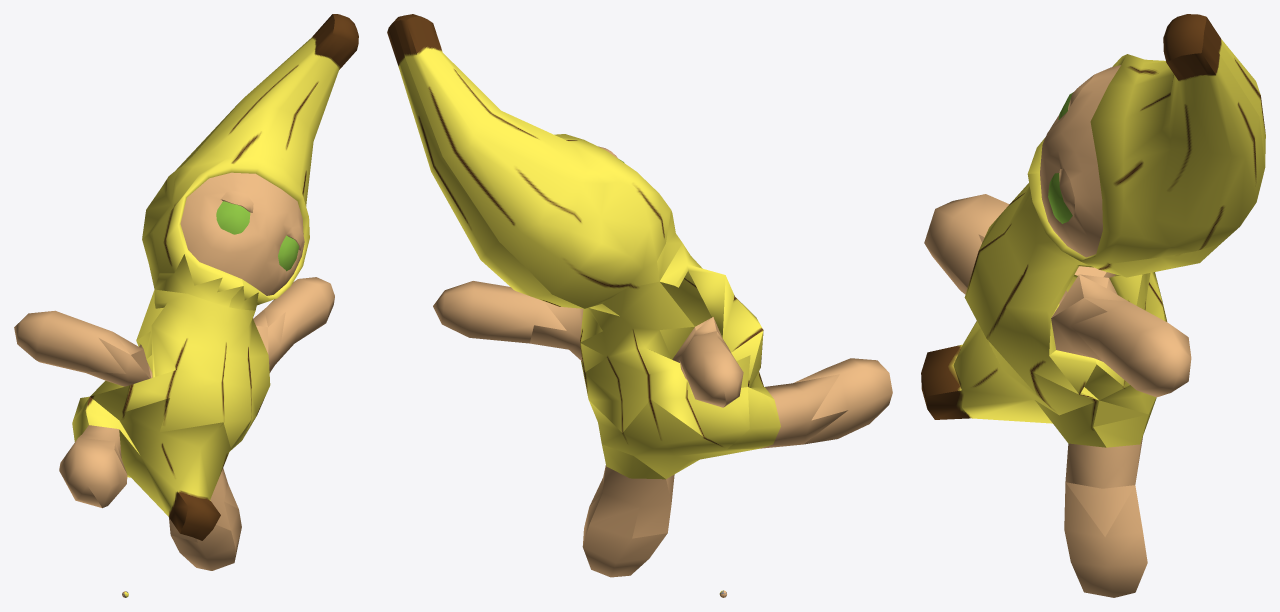
Rendered from skin_banana.glb.
3 views of the same model, side by side, from view 1: azimuth 30°, elevation 25°; view 2: azimuth 150°, elevation 25°; view 3: azimuth 270°, elevation 25° (orthographic). The views are drawn at different scales.
Visible parts, largest first — view 1: HeadMesh, TorsoMesh, PelvisMesh, ShinLMesh, ForeLMesh, ForeRMesh, ThighLMesh, UpperLMesh, UpperRMesh, ShinRMesh; view 2: HeadMesh, TorsoMesh, ThighLMesh, ShinLMesh, PelvisMesh, ForeRMesh, ForeLMesh, UpperRMesh, UpperLMesh; view 3: HeadMesh, TorsoMesh, PelvisMesh, ForeRMesh, ShinRMesh, ThighLMesh, UpperRMesh, ShinLMesh, ThighRMesh.
Part boxes in pixels (left/top/right/bottom): HeadMesh: left=142, top=14, right=358, bottom=305; TorsoMesh: left=90, top=254, right=270, bottom=597; PelvisMesh: left=72, top=385, right=250, bottom=540; ShinLMesh: left=59, top=437, right=235, bottom=570; ForeLMesh: left=14, top=310, right=130, bottom=383; ForeRMesh: left=264, top=277, right=334, bottom=345; ThighLMesh: left=72, top=397, right=230, bottom=542; UpperLMesh: left=88, top=331, right=152, bottom=386; UpperRMesh: left=253, top=309, right=293, bottom=372; ShinRMesh: left=224, top=501, right=241, bottom=561; HeadMesh: left=387, top=14, right=675, bottom=308; TorsoMesh: left=580, top=210, right=763, bottom=597; ThighLMesh: left=589, top=374, right=847, bottom=538; ShinLMesh: left=583, top=358, right=892, bottom=577; PelvisMesh: left=589, top=330, right=763, bottom=478; ForeRMesh: left=433, top=281, right=566, bottom=343; ForeLMesh: left=679, top=331, right=743, bottom=407; UpperRMesh: left=529, top=301, right=607, bottom=395; UpperLMesh: left=660, top=317, right=727, bottom=382; HeadMesh: left=1027, top=14, right=1265, bottom=277; TorsoMesh: left=964, top=183, right=1164, bottom=400; PelvisMesh: left=921, top=301, right=1167, bottom=423; ForeRMesh: left=1070, top=298, right=1191, bottom=397; ShinRMesh: left=1064, top=482, right=1147, bottom=597; ThighLMesh: left=978, top=234, right=1156, bottom=488; UpperRMesh: left=1049, top=274, right=1145, bottom=394; ShinLMesh: left=924, top=194, right=1009, bottom=294; ThighRMesh: left=1065, top=400, right=1147, bottom=536.
Bounding box in the file's own units: 1.48 × 1.88 × 0.8536.
1 material, 1 textured.
